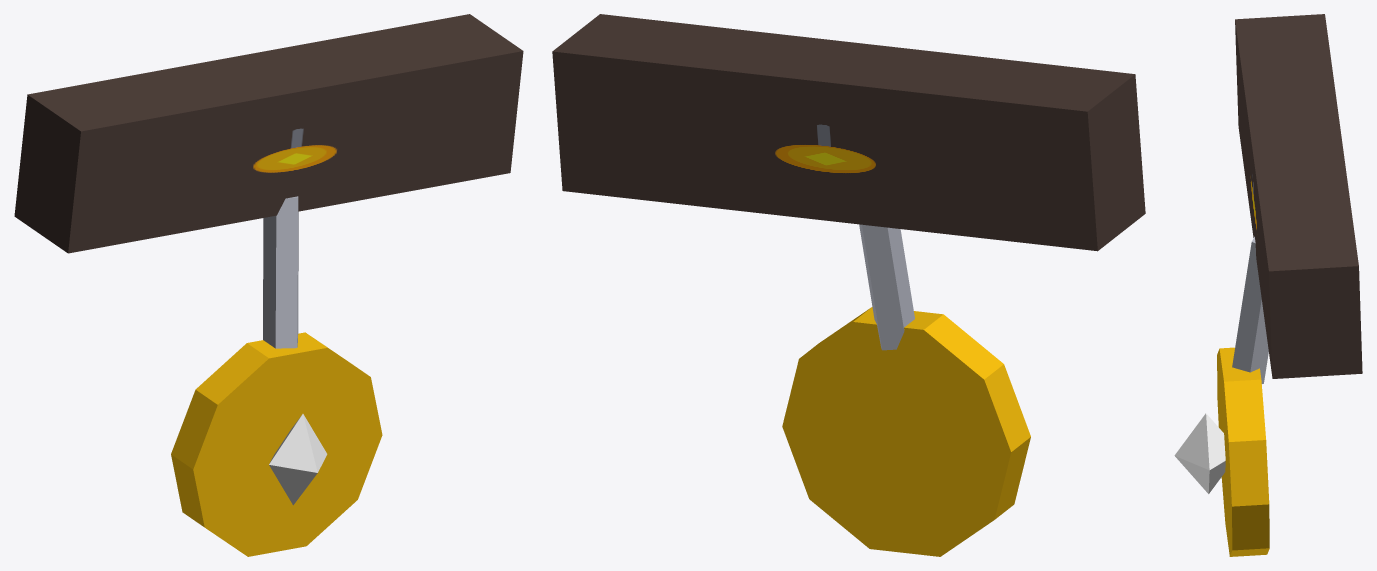
Rendered from trophy_counter_1.glb.
The picture shows the model from 3 angles, left to right: view 1: azimuth 30°, elevation 25°; view 2: azimuth 150°, elevation 25°; view 3: azimuth 270°, elevation 25°; orthographic projection. The views are drawn at different scales.
Visible parts, largest first — view 1: wear_trophy_counter_1_00_display; view 2: wear_trophy_counter_1_00_display; view 3: wear_trophy_counter_1_00_display.
Part boxes in pixels (left/top/right/bottom): wear_trophy_counter_1_00_display: left=14, top=14, right=523, bottom=556; wear_trophy_counter_1_00_display: left=552, top=14, right=1145, bottom=556; wear_trophy_counter_1_00_display: left=1174, top=14, right=1362, bottom=556.
Bounding box in the file's own units: 0.3395 × 0.3197 × 0.1242.
Materials: 4 (1 with a texture image).
